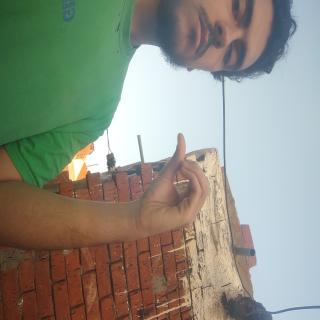WAW: (96, 141, 183, 253)
